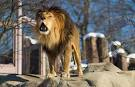lion: (36, 8, 83, 80)
